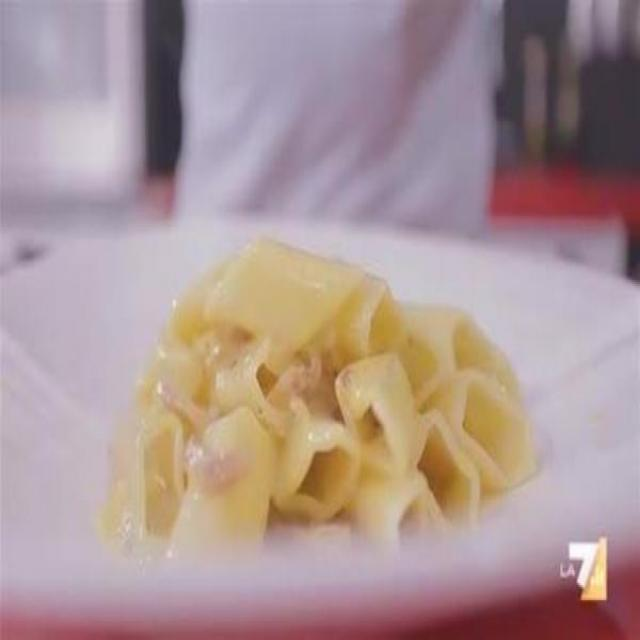Pasta with carbonara sauce: (100, 192, 582, 561)
